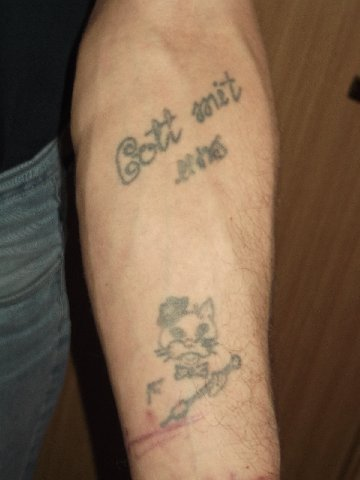tatu3_bukva: (114, 84, 255, 186)
tatu8_kot: (141, 290, 248, 424)
